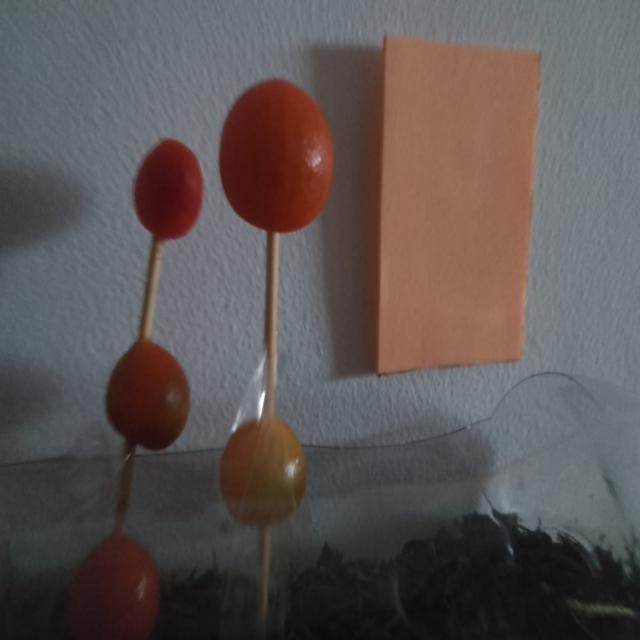card: (375, 36, 539, 374), (376, 36, 539, 374)
fruit_maturation: (219, 79, 333, 233), (220, 415, 306, 527)
fully_grown: (220, 79, 333, 233), (67, 532, 160, 639), (105, 340, 190, 449), (133, 139, 203, 240)
